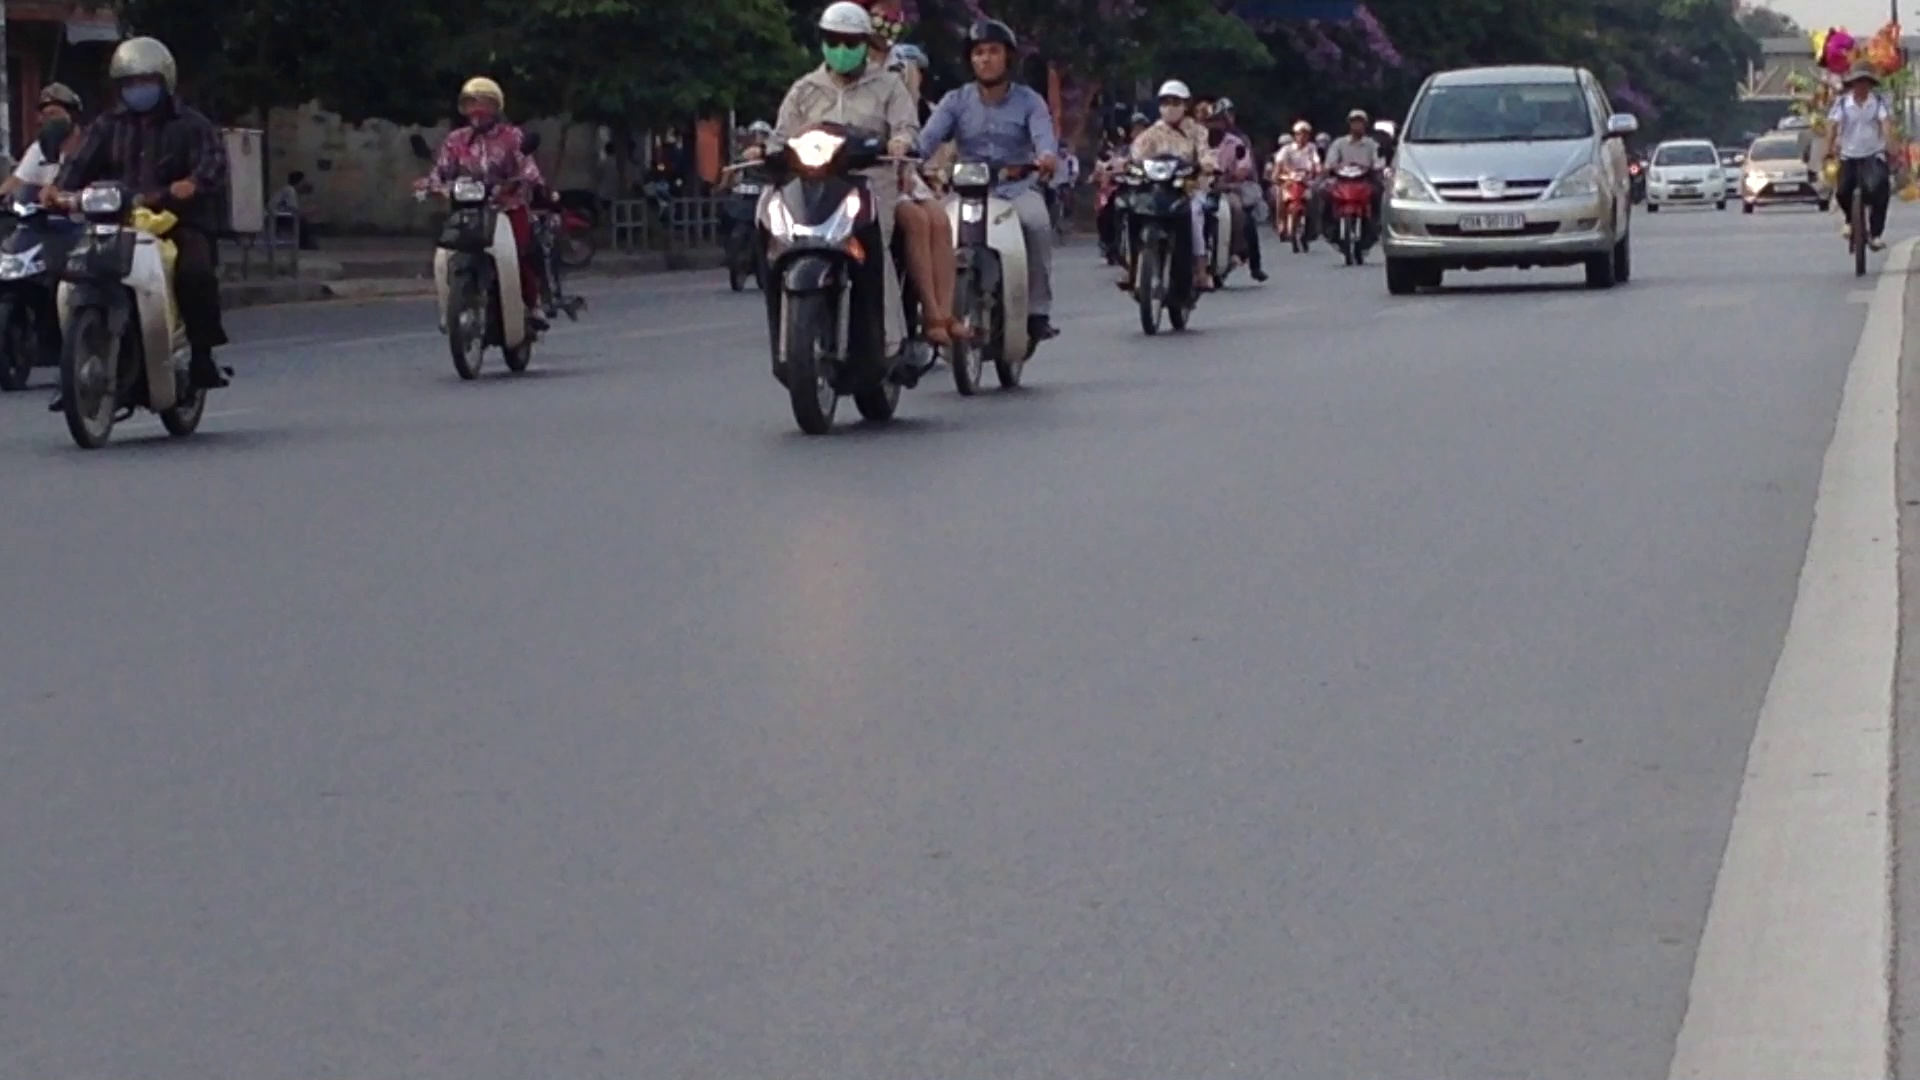vehicle-plate: (1458, 210, 1527, 231)
